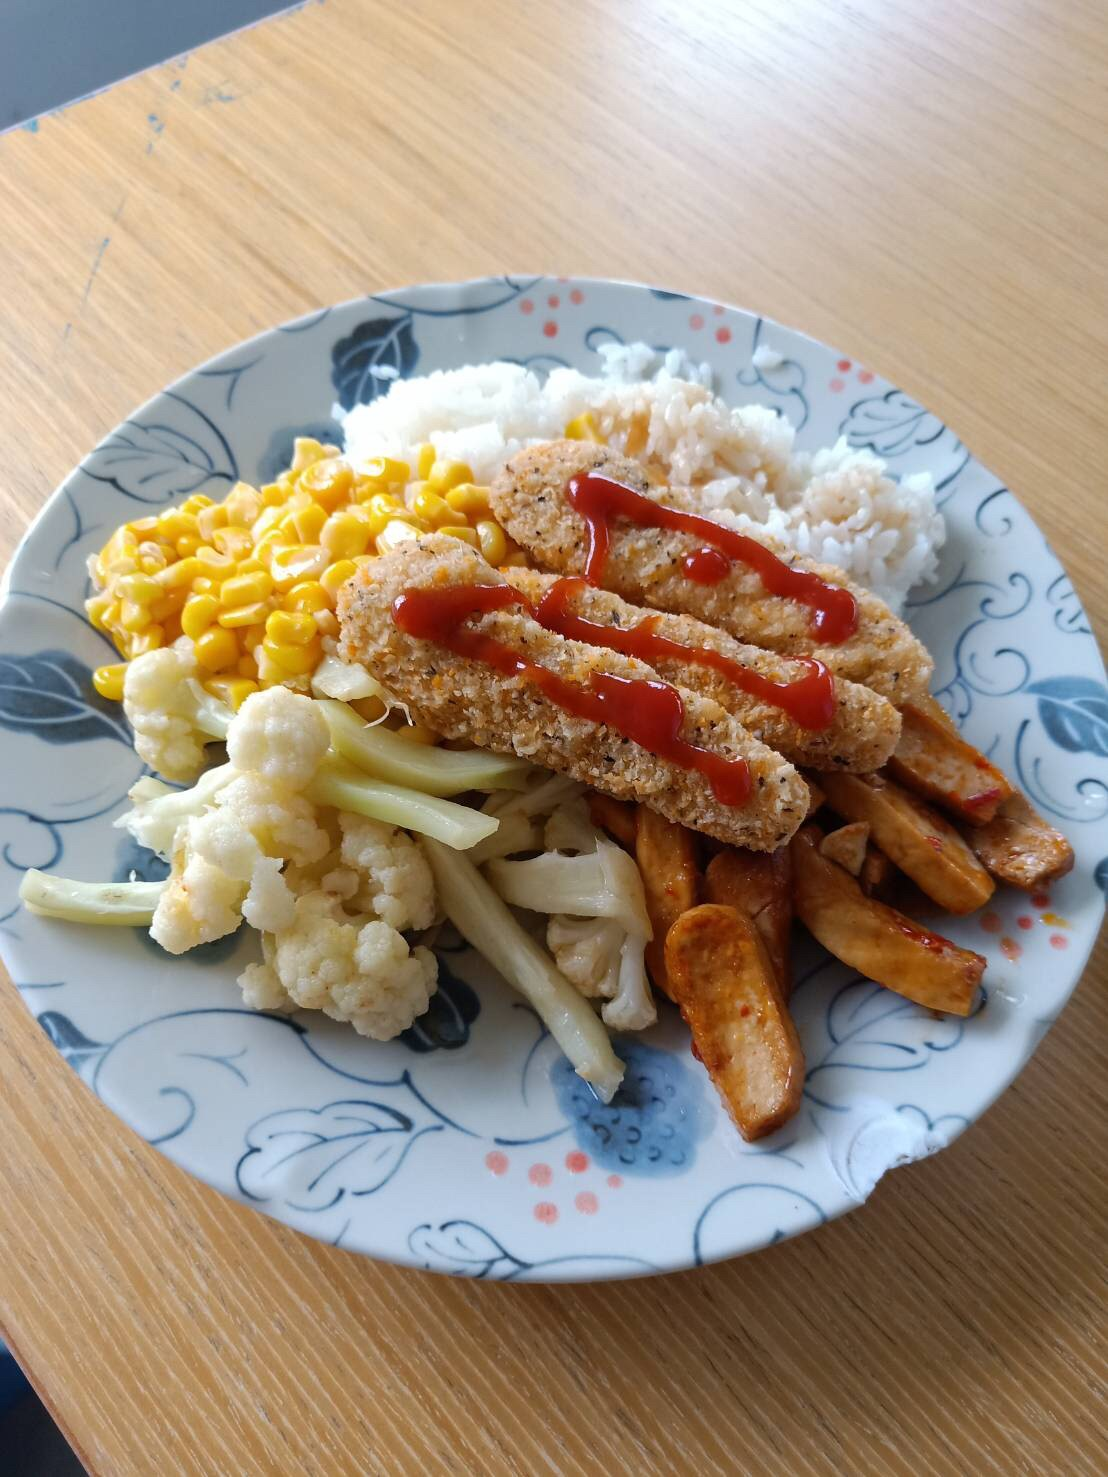rice: (319, 350, 943, 594)
